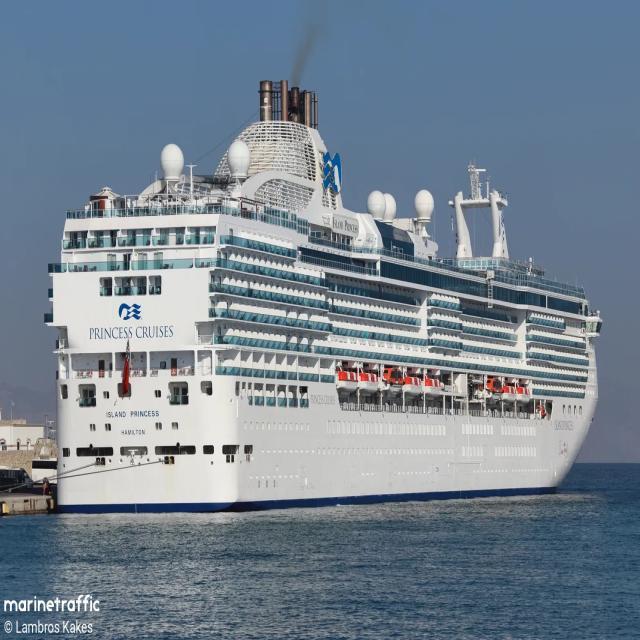Cruise: (42, 54, 602, 512)
